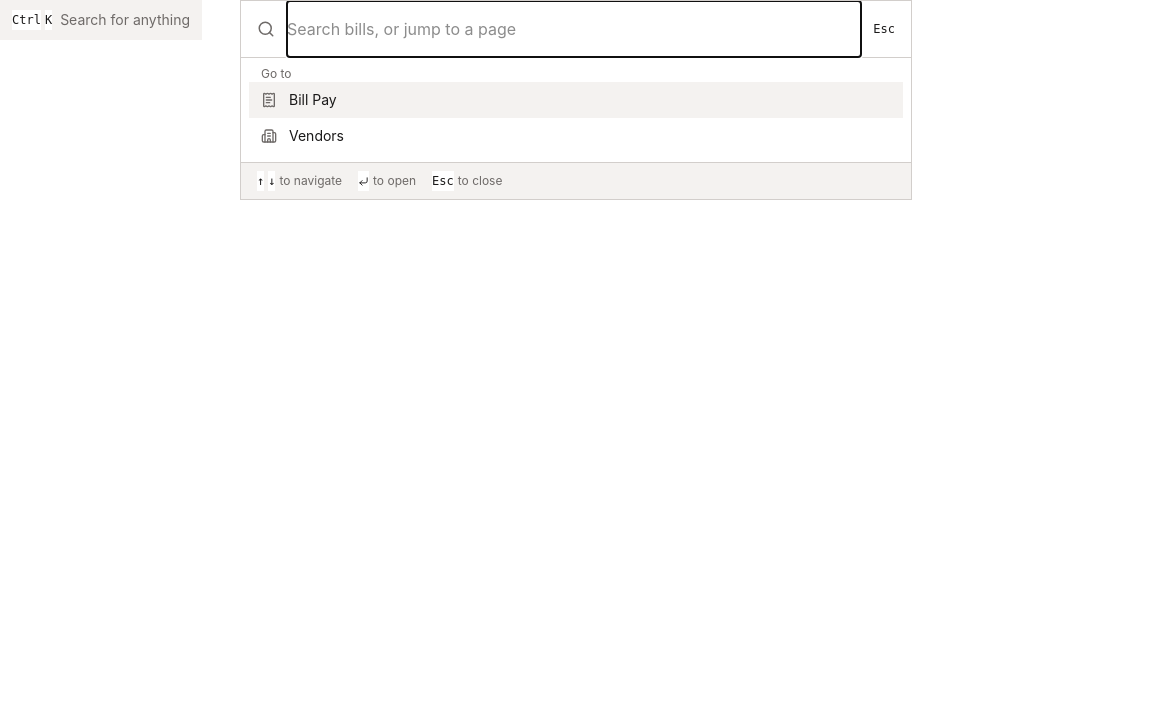
Scenario: CommandPaletteHost › searches every category — no status filter — and lists the bills it finds
Expected: the dialog is shown, [240,0,912,200]
Type "acme" into the dropdown labelled "Search".
click(574, 29); type("acme")  # box [287,1,861,57]
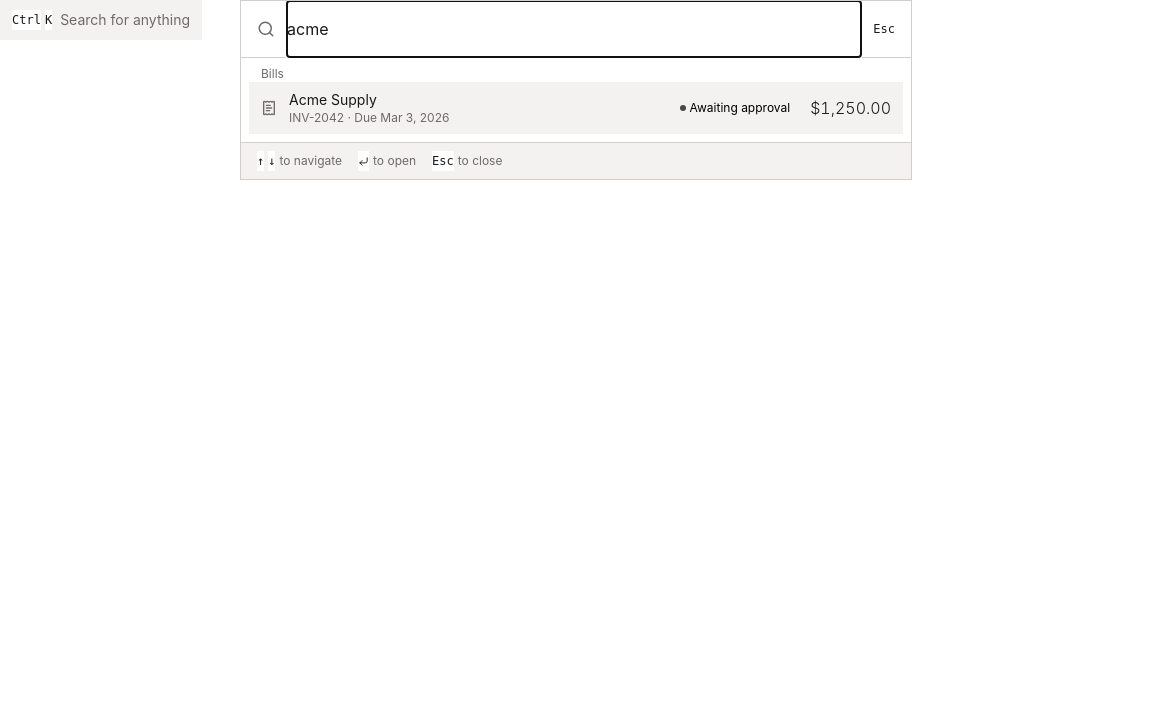
Expected: the option "Acme Supply" shows "INV-2042", [249,82,903,134]
